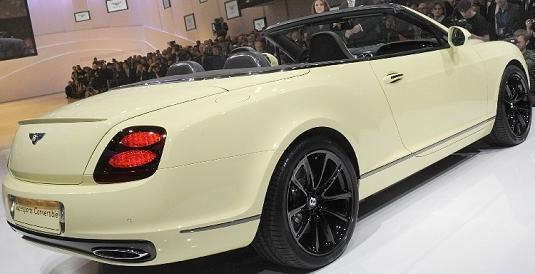back_view: (1, 112, 197, 273)
backlight: (97, 126, 166, 185)
